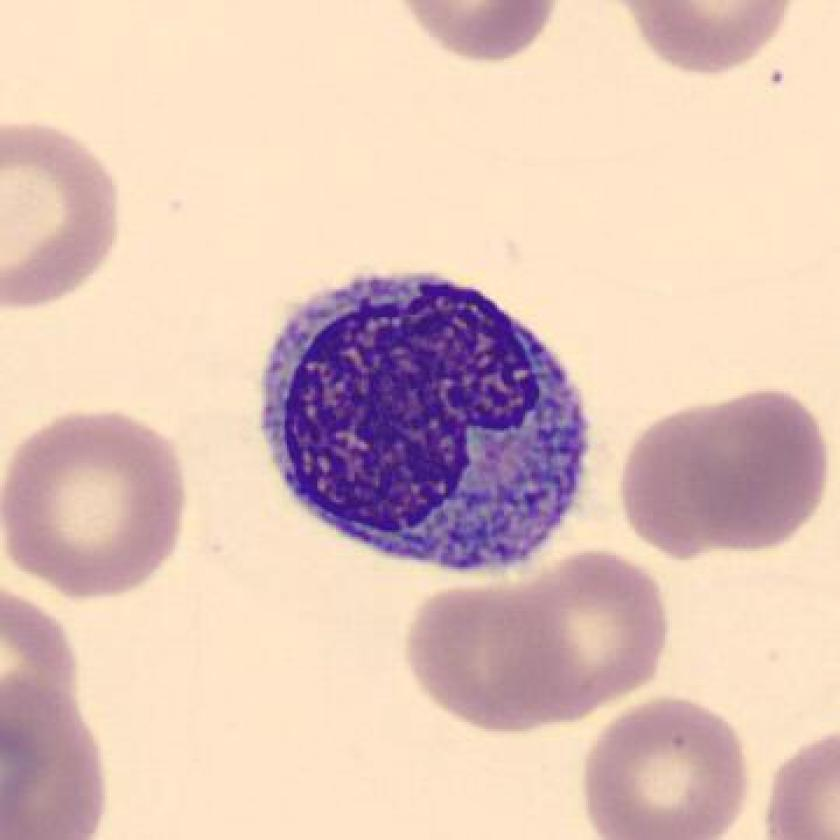monocyte: (237, 251, 610, 589)
